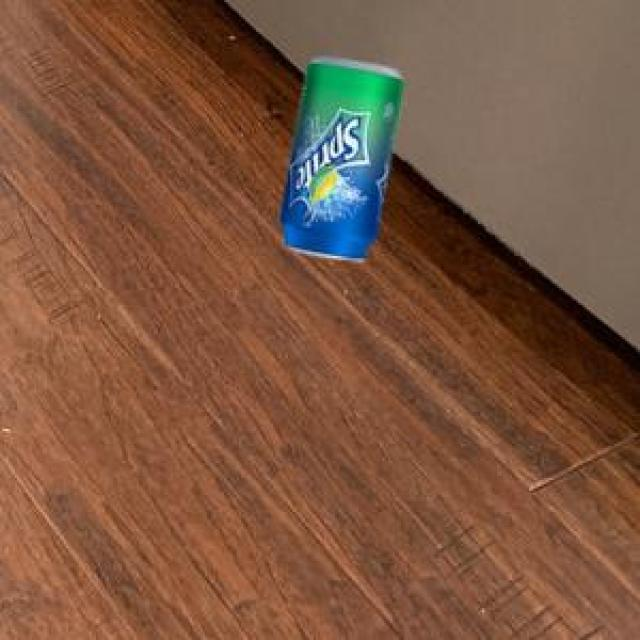logam: (278, 54, 400, 257)
